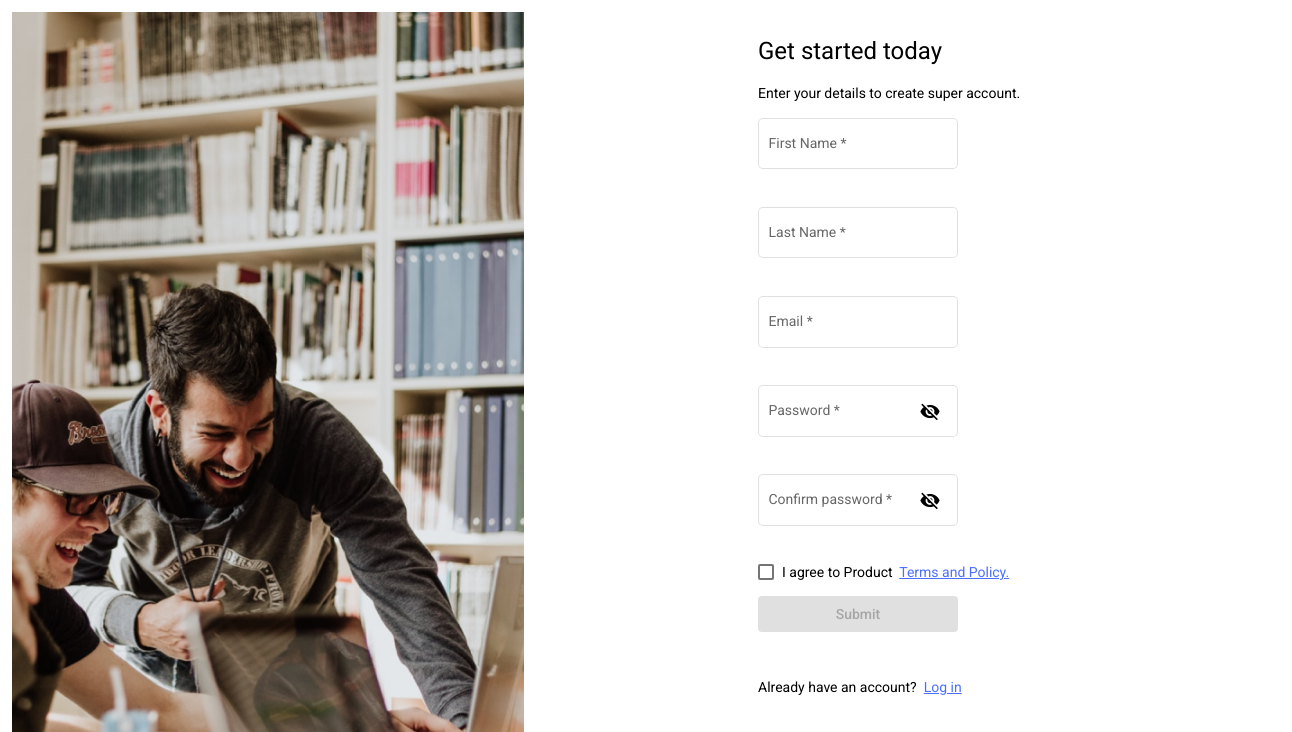
Scenario: Registration › Password does not match error should appear
In the element showing "Password *": (858, 414) x1=758 y1=406 x2=958 y2=422, type "Sombra1234"
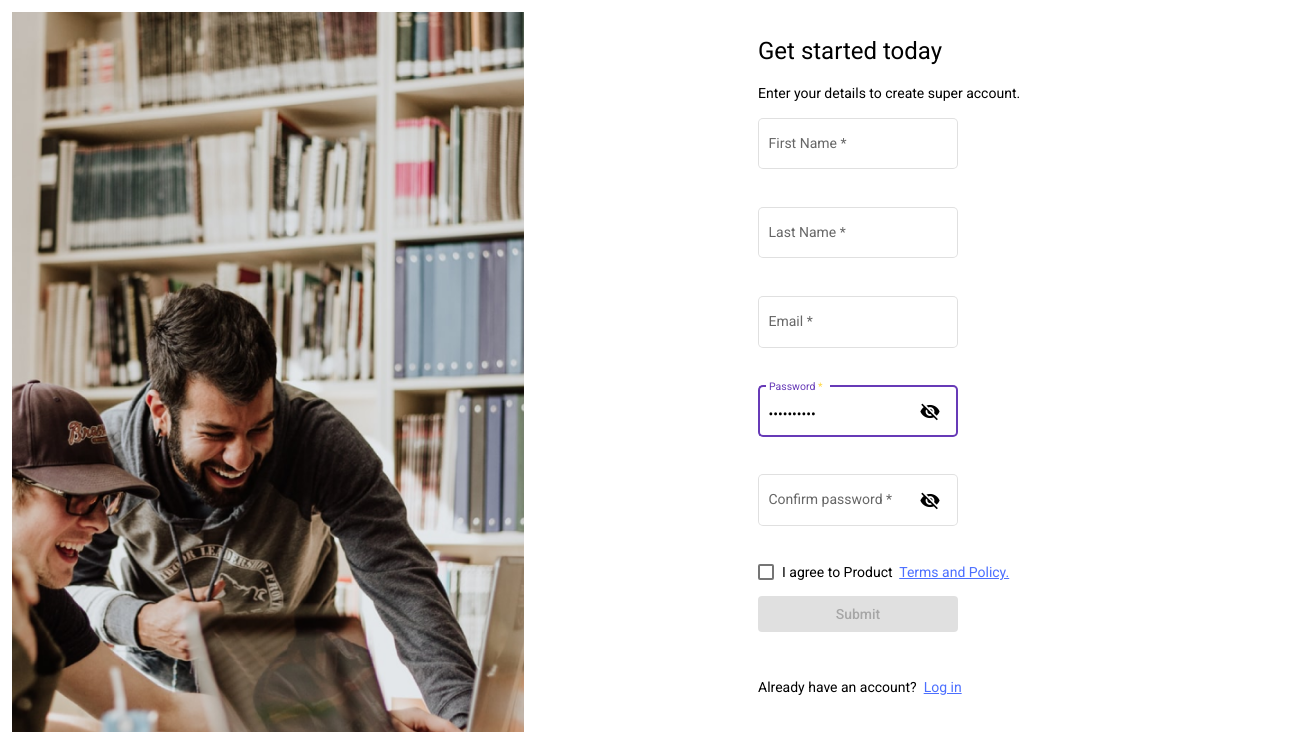
In the element showing "Confirm password *": (858, 503) x1=758 y1=495 x2=958 y2=511, type "Sombra1"
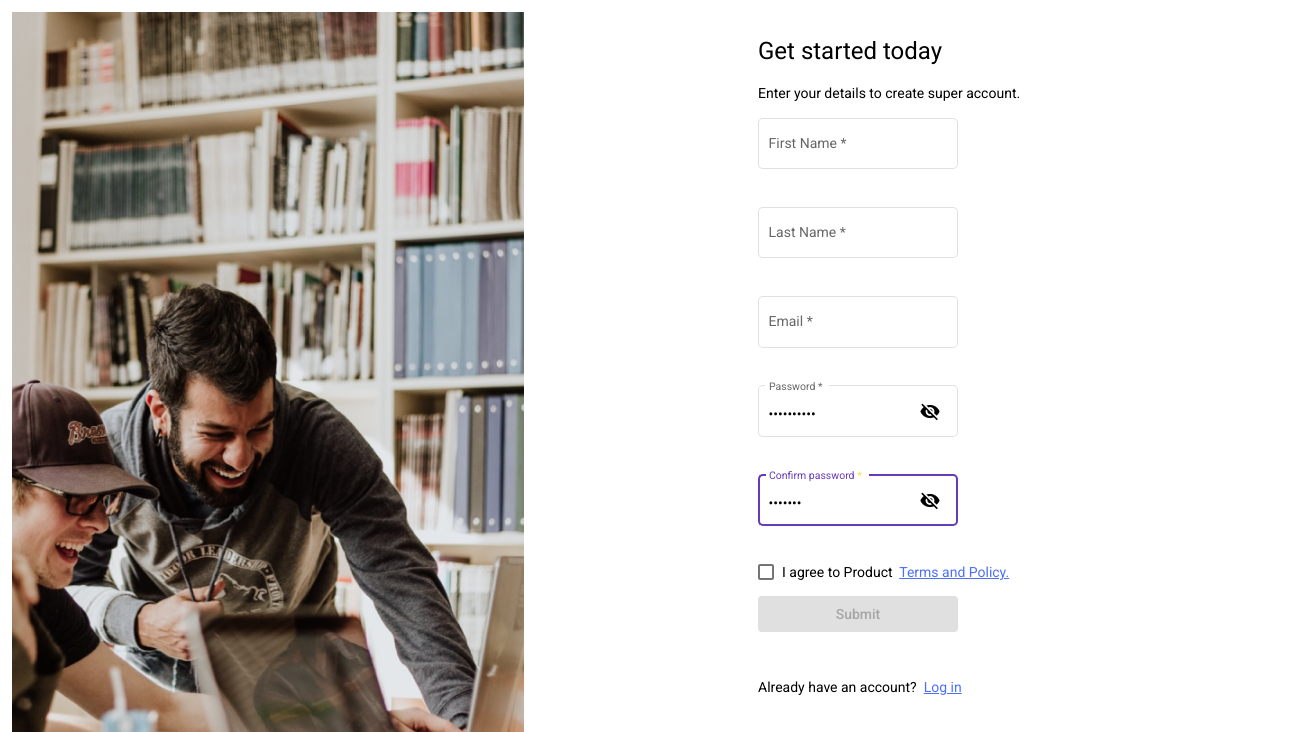
Leave the password field labelled "Confirm password *", box x1=769 y1=496 x2=913 y2=512
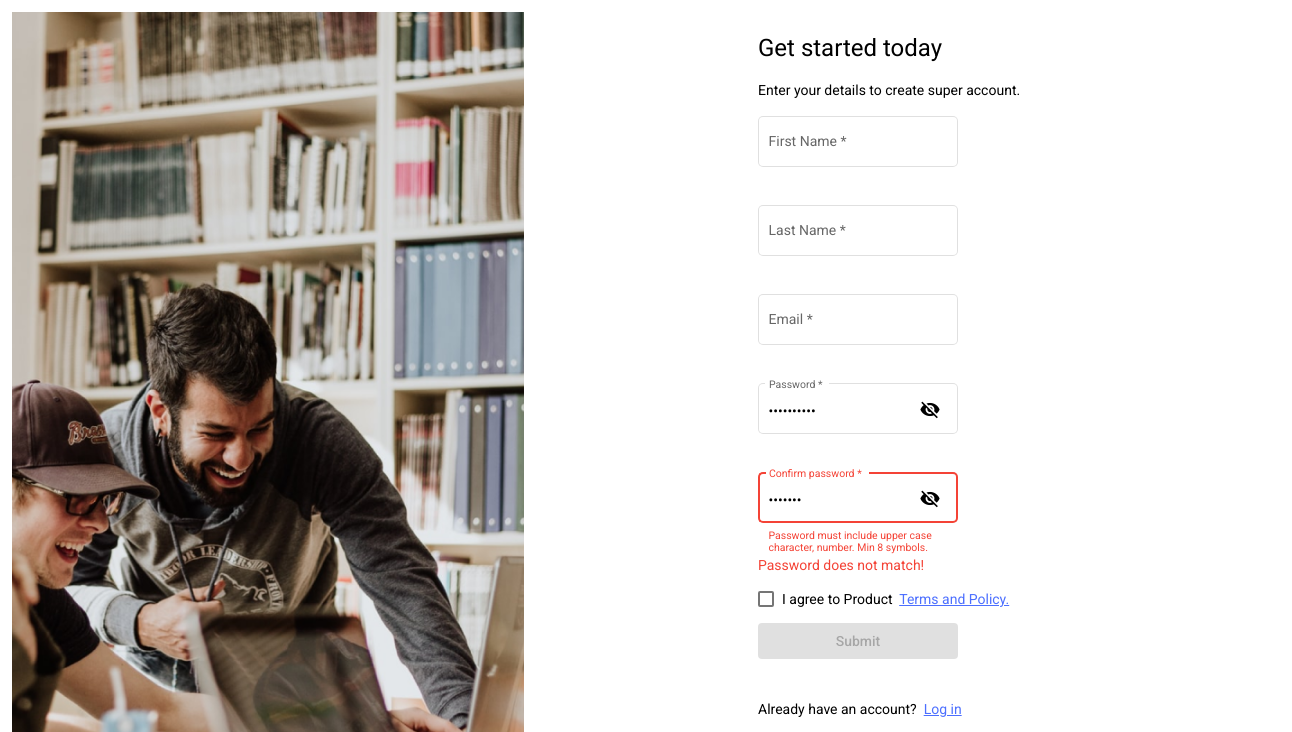
Result: the text "Password does not match!" is shown at x1=758 y1=557 x2=924 y2=573
